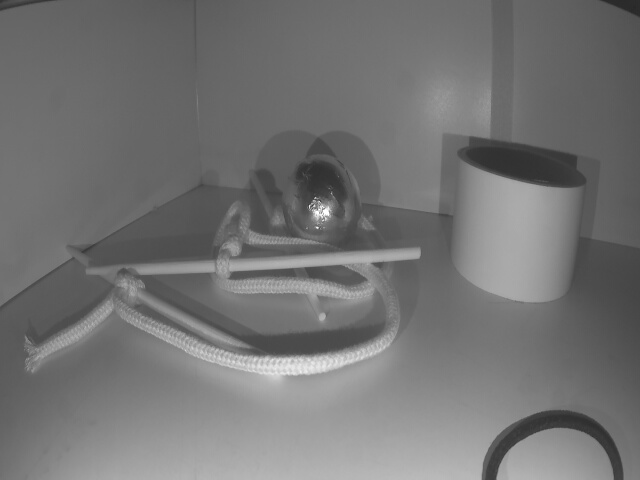Live: (286, 155, 358, 249)
